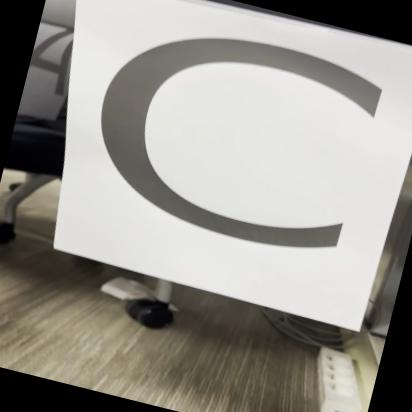seat: (18, 0, 412, 342)
